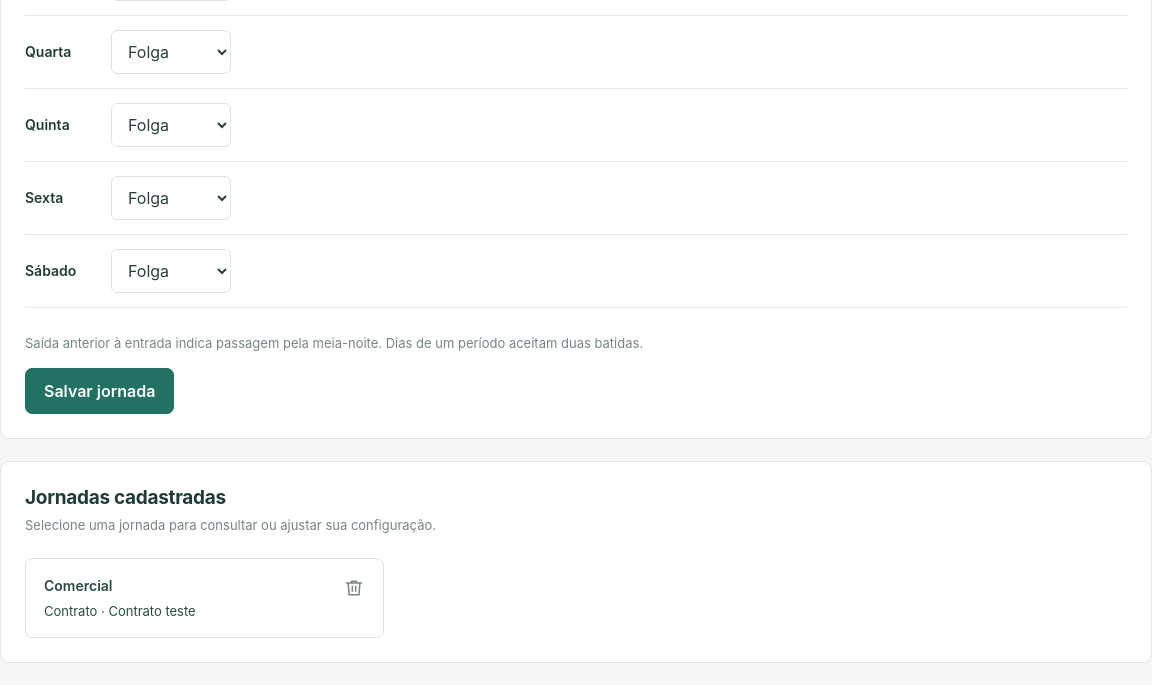
Test: confirma edição de jornada somente depois de persistir
(page scrolled)
Click the button "Comercial Contrato · Contrato teste".
click(78, 586)  # box [25,558,384,638]
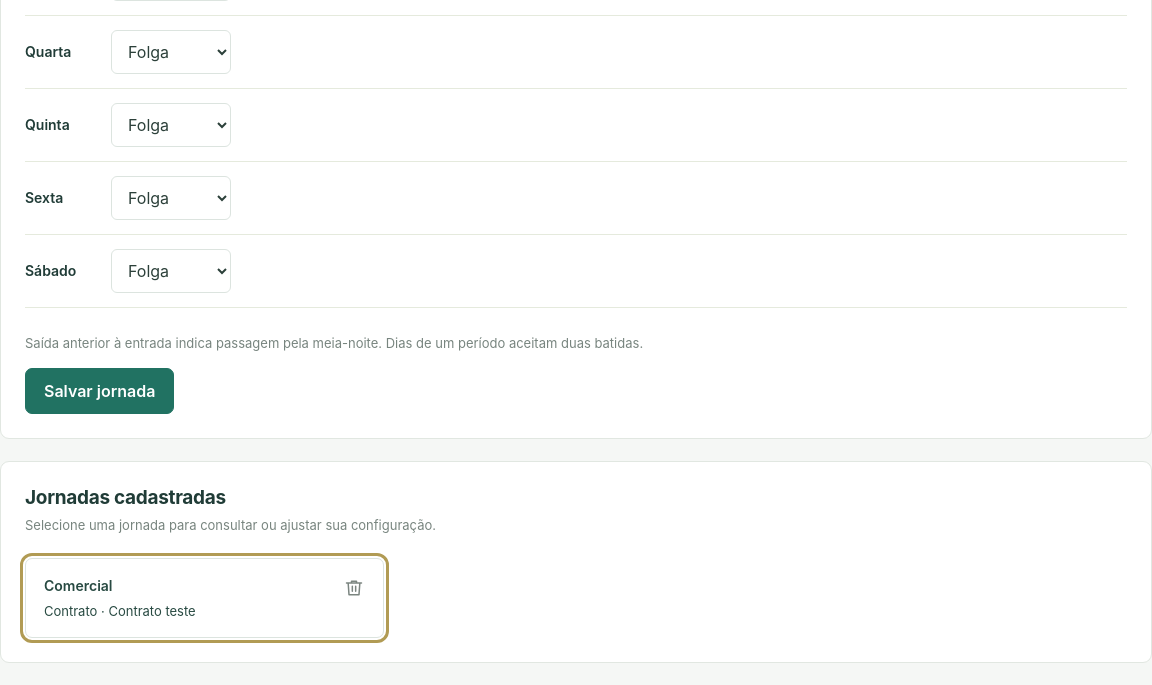
Click the button "Salvar jornada".
click(100, 391)  # box [25,368,174,414]
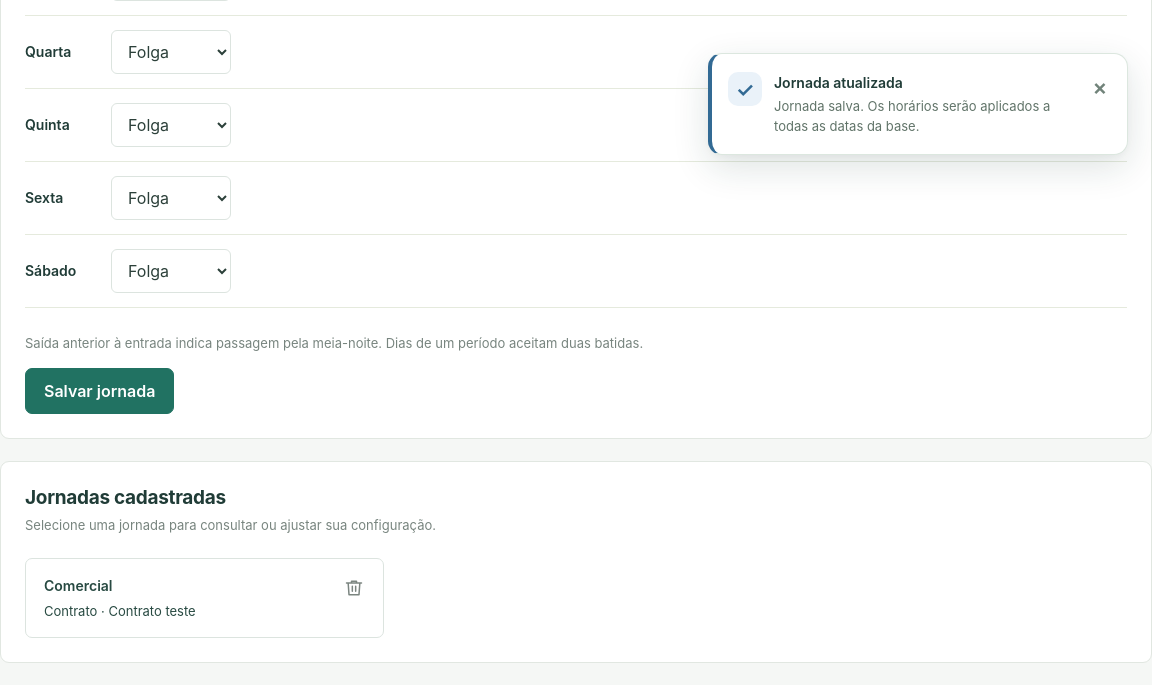
Now the message shows "Jornada atualizada", box [774,74,903,91]
